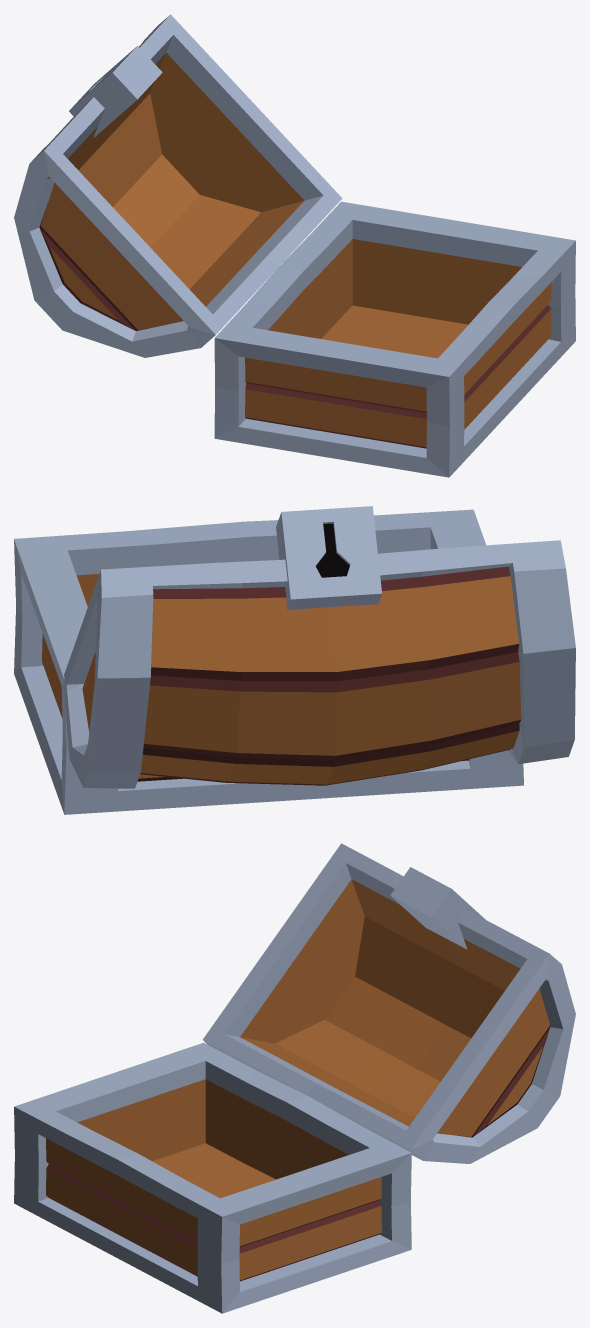
The model's file is baoxiang.fbx.
3 renders of one model, top to bottom at view 1: azimuth 30°, elevation 25°; view 2: azimuth 150°, elevation 25°; view 3: azimuth 270°, elevation 25°, orthographic. The views are drawn at different scales.
Parts seen in each view (by area): view 1: chest bottom.002, chest top.002; view 2: chest top.002, chest bottom.002; view 3: chest top.002, chest bottom.002.
Part boxes in pixels (left/top/right/bottom): chest bottom.002: left=214, top=201, right=575, bottom=477; chest top.002: left=14, top=14, right=342, bottom=357; chest top.002: left=64, top=506, right=575, bottom=788; chest bottom.002: left=14, top=509, right=523, bottom=814; chest top.002: left=202, top=843, right=575, bottom=1163; chest bottom.002: left=14, top=1042, right=411, bottom=1313.
Bounding box in the file's own units: 209 × 117 × 216.
